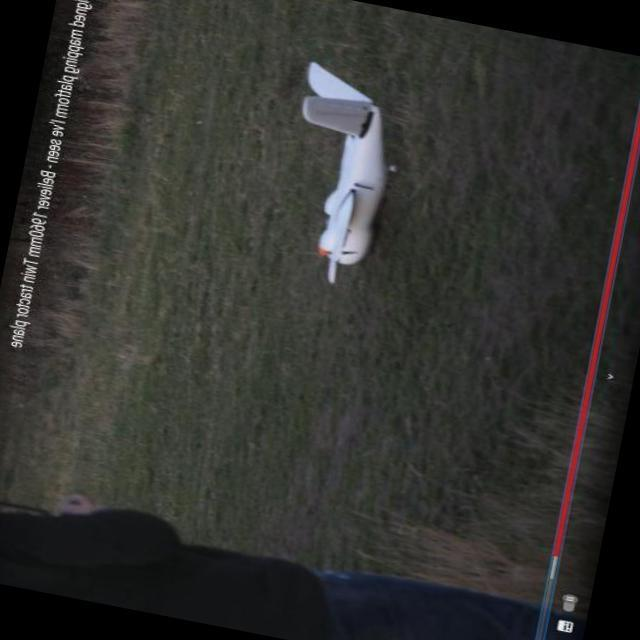iha: (243, 53, 428, 305)
